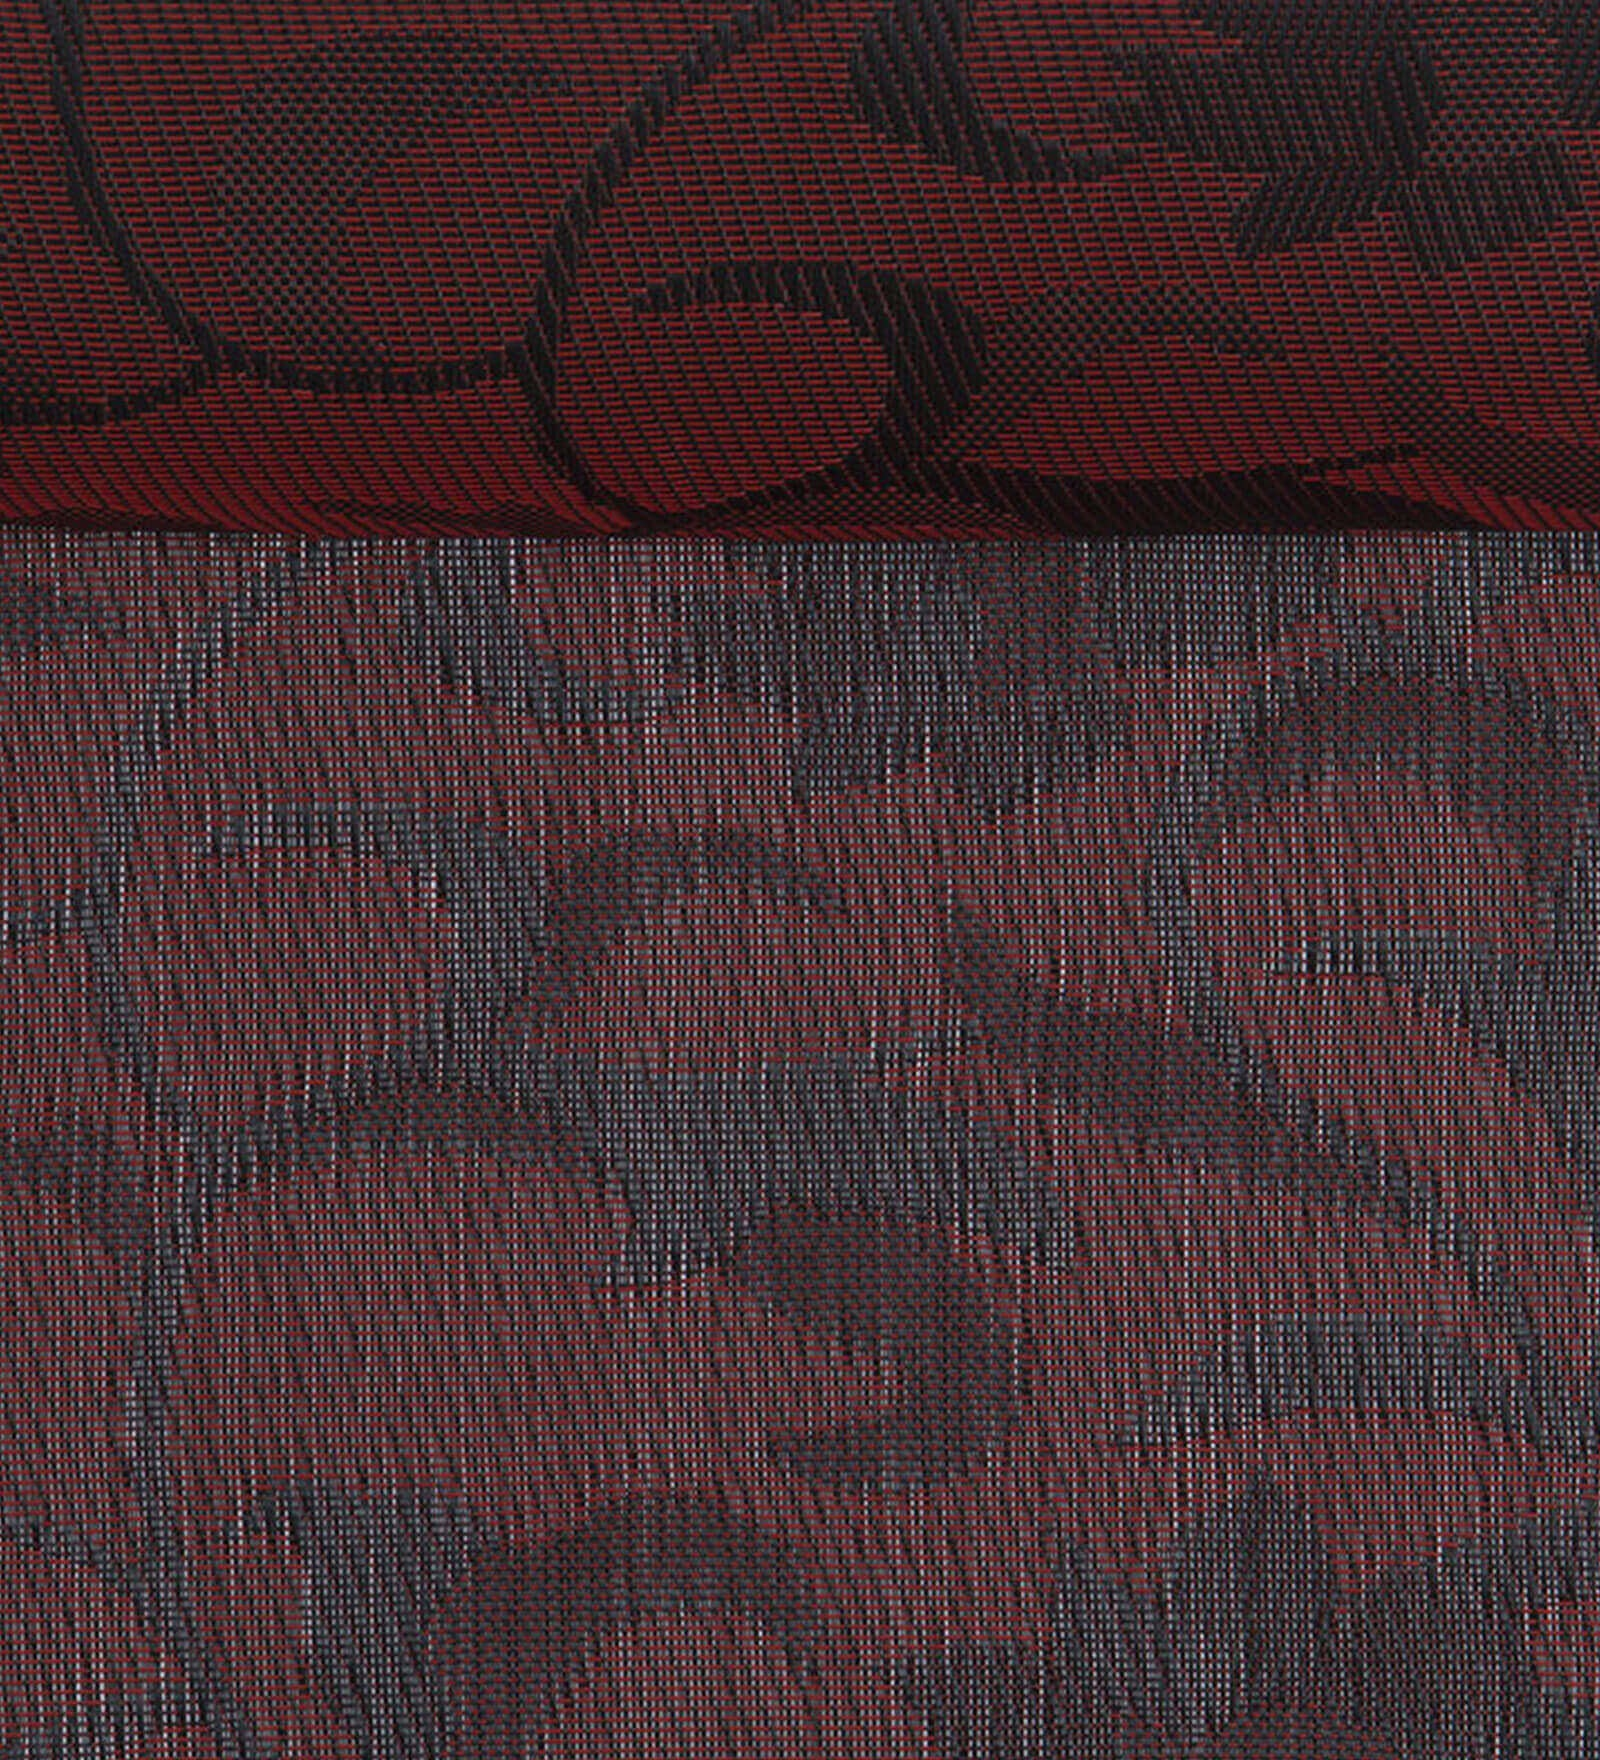Frolic Easy Foldable Chair in Purple & Red Colour by Nilkamal: (5, 2, 1600, 1748)
